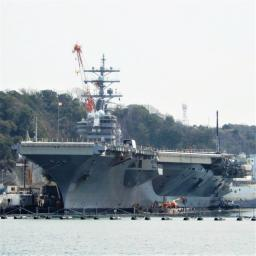Portanaves: (17, 49, 245, 218)
